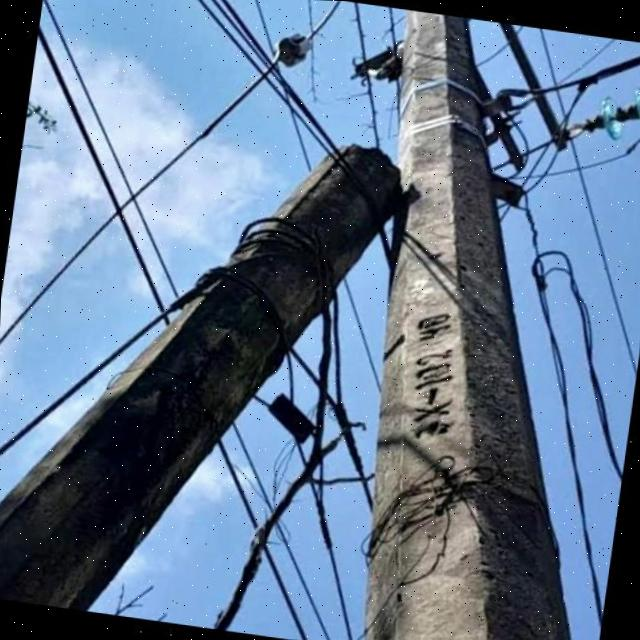Broken Pole: (0, 138, 413, 605)
